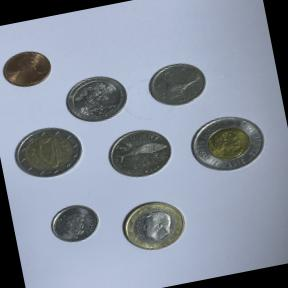1 Euro-B: (108, 190, 199, 264)
2 Euro-B: (4, 118, 90, 189)
Canada-10cent-B: (40, 194, 107, 252)
Canada-2Dollar-B: (178, 100, 278, 185)
Croatia-2Kune-B: (95, 119, 184, 192)
US-1cent-B: (0, 39, 64, 100)
US-25cent-B: (57, 65, 138, 130)
